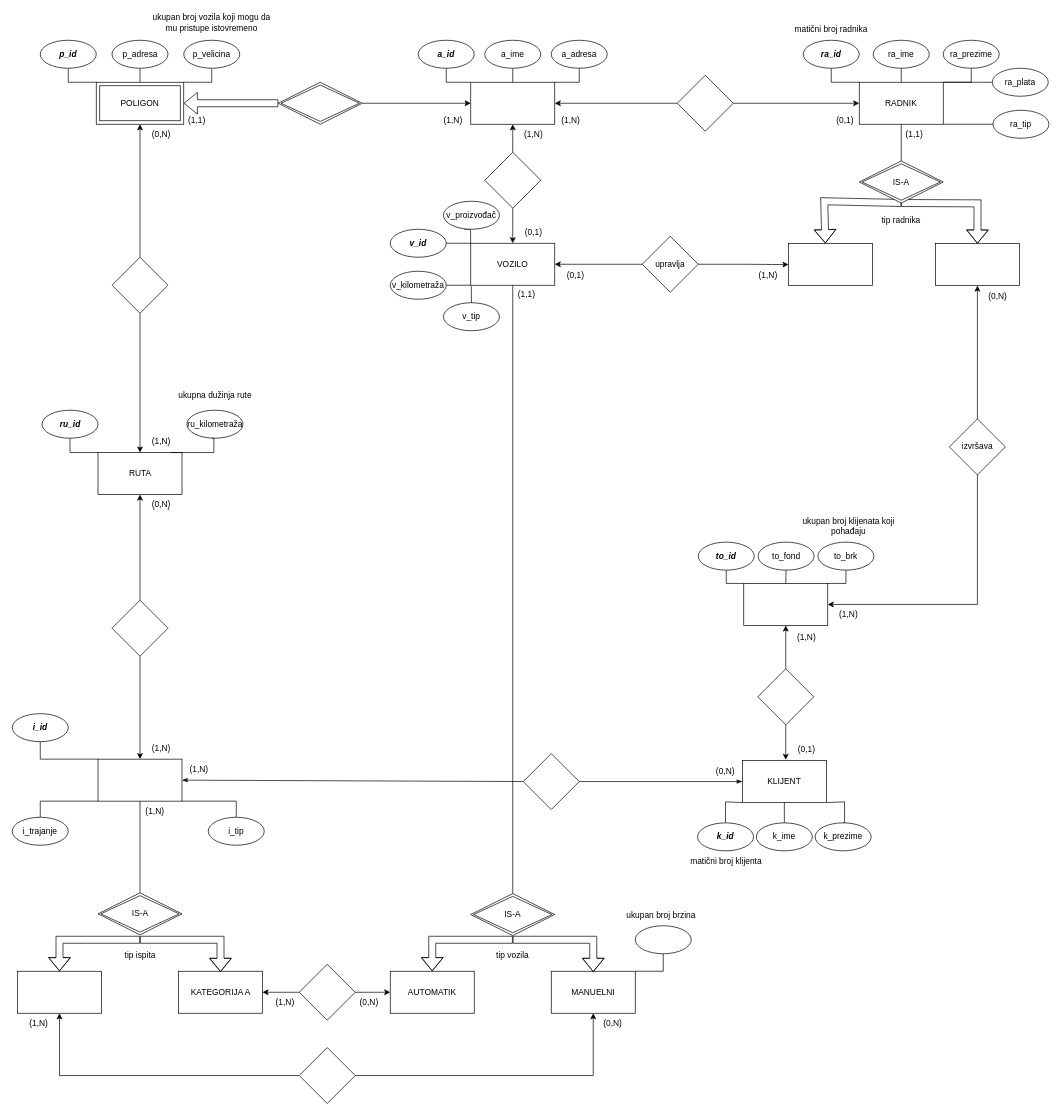
This 1061x1116 diagram has some shape labels left out. Here are the shapes that lost their labels. From the top down, the centre of each, then its label:
At pixel 320 103: "sadrži".
At pixel 512 103: "AUTO ŠKOLA".
At pixel 705 103: "zapošljava".
At pixel 512 180: "poseduje".
At pixel 830 264: "INSTRUKTOR".
At pixel 977 264: "NASTAVNIK".
At pixel 139 285: "pripada".
At pixel 785 604: "TEORIJSKA OBUKA".
At pixel 139 628: "je deo".
At pixel 785 696: "pohađa".
At pixel 139 779: "ISPIT".
At pixel 551 781: "polaže".
At pixel 663 939: "v_brb".
At pixel 59 992: "KATEGORIJA B".
At pixel 327 992: "vozi".
At pixel 327 1075: "koristi".
